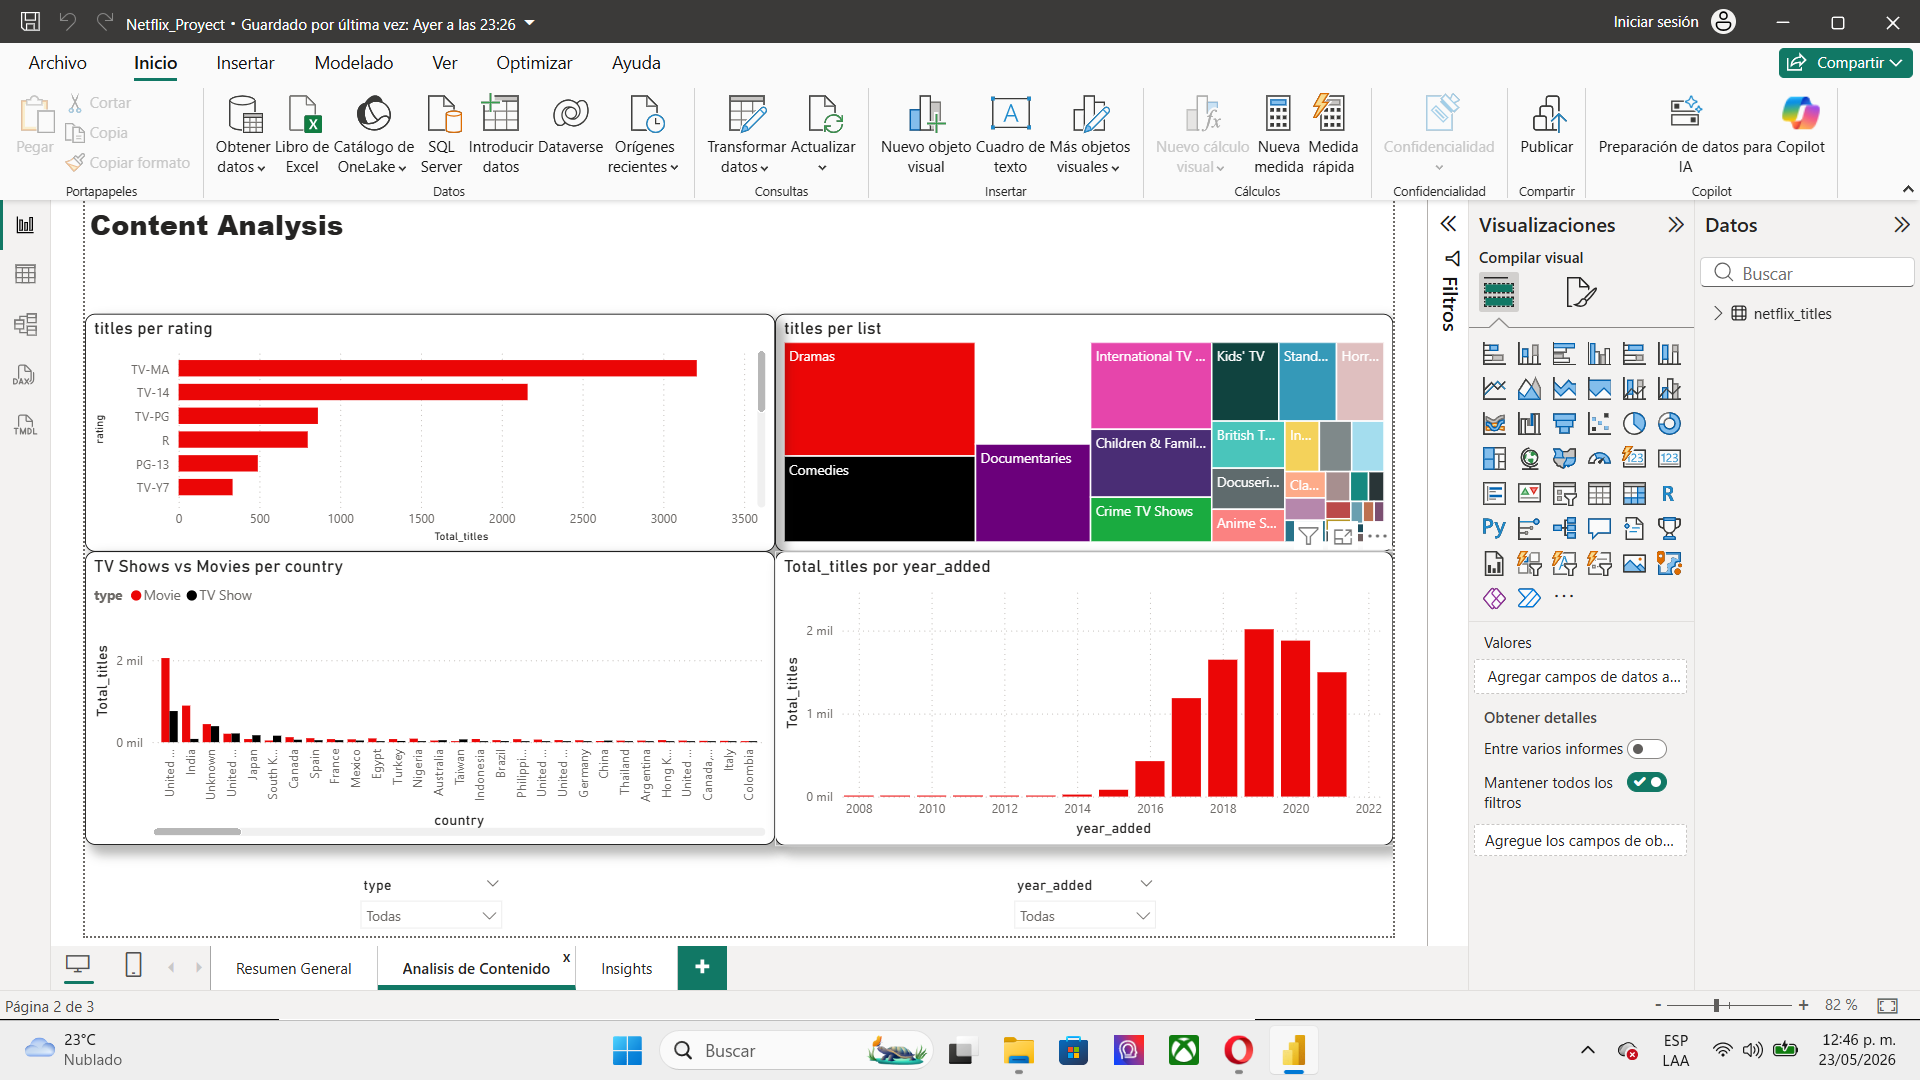

This screenshot's page, from the dashboard's own definition file:
{"tool":"powerbi","page":{"name":"Analisis de Contenido","canvas":[1280,720],"ordinal":1},"visuals":[{"type":"treemap","title":"titles per list","fields":{"Values":["netflix_titles.Total_titles"],"Group":["netflix_titles.listed_in.1"]},"box":[675,111.2,605,232.5],"z":0},{"type":"slicer","fields":{"Values":["netflix_titles.year_added"]},"box":[898.8,656.2,158.8,63.8],"z":1000},{"type":"slicer","fields":{"Values":["netflix_titles.type"]},"box":[258.8,656.2,158.8,63.8],"z":2000},{"type":"barChart","title":"titles per rating","fields":{"Category":["netflix_titles.rating"],"Y":["netflix_titles.Total_titles"]},"box":[0,111.2,675,232.5],"z":3000},{"type":"clusteredColumnChart","title":"TV Shows vs Movies per country","fields":{"Y":["netflix_titles.Total_titles"],"Category":["netflix_titles.country"],"Series":["netflix_titles.type"]},"box":[0,343.8,675,287.5],"z":4000},{"type":"columnChart","fields":{"Y":["netflix_titles.Total_titles"],"Category":["netflix_titles.year_added"]},"box":[675,344,605,288],"z":5000},{"type":"textbox","box":[0,0,262.5,52.5],"z":6000}]}

Visuals, with their boxes on the page's 1280x720 design canvas (x1, y1, x2, y2). These are canvas units, not pixel positions in the 1920x1080 screenshot, which may show the page scaled, cropped or inside an application window:
"titles per list" treemap: box=[675, 111, 1280, 344]
slicer - netflix_titles.year_added: box=[899, 656, 1058, 720]
slicer - netflix_titles.type: box=[259, 656, 418, 720]
"titles per rating" barChart: box=[0, 111, 675, 344]
"TV Shows vs Movies per country" clusteredColumnChart: box=[0, 344, 675, 631]
columnChart - netflix_titles.Total_titles x netflix_titles.year_added: box=[675, 344, 1280, 632]
textbox: box=[0, 0, 262, 52]
